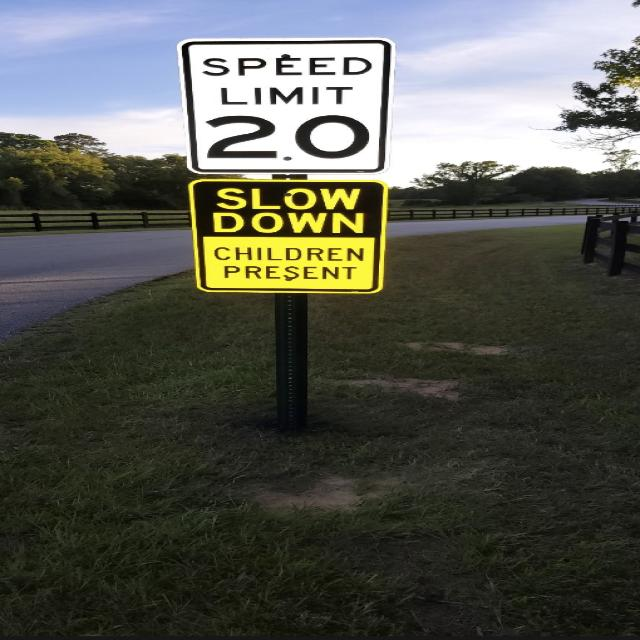speedLimit20: (177, 35, 382, 175)
